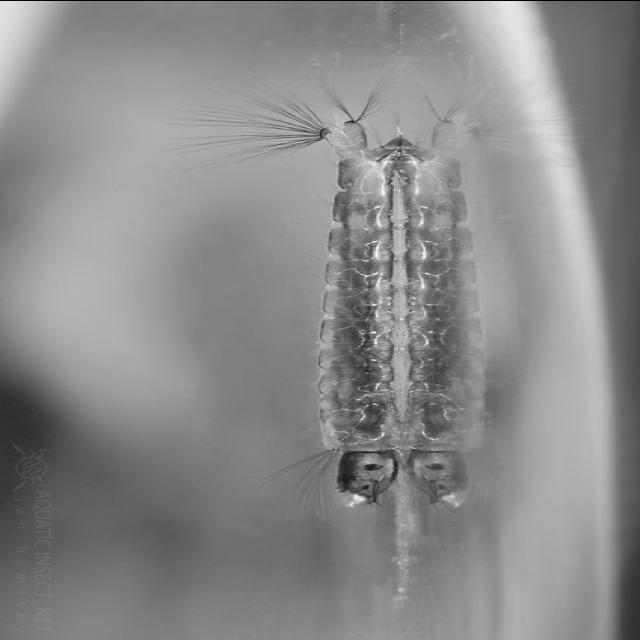larvas: (303, 113, 402, 502), (405, 125, 483, 500)
